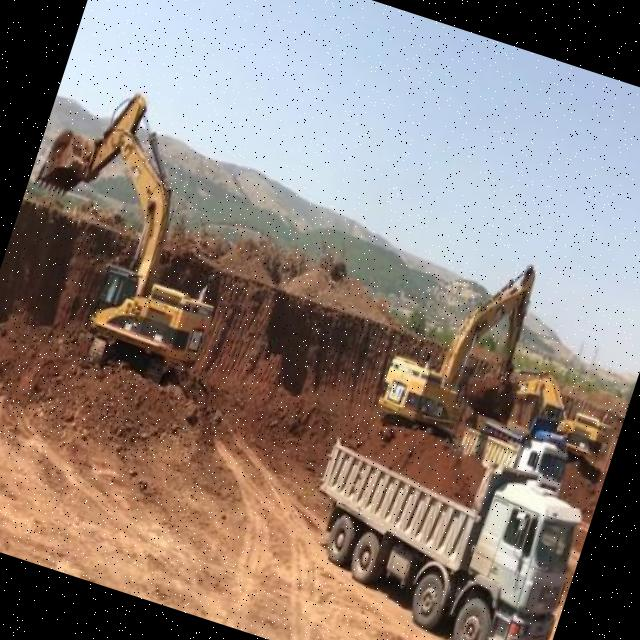Dump Truck: (280, 392, 604, 640), (462, 407, 578, 502)
Excavator: (0, 60, 273, 400), (368, 224, 544, 459), (493, 350, 627, 474)
